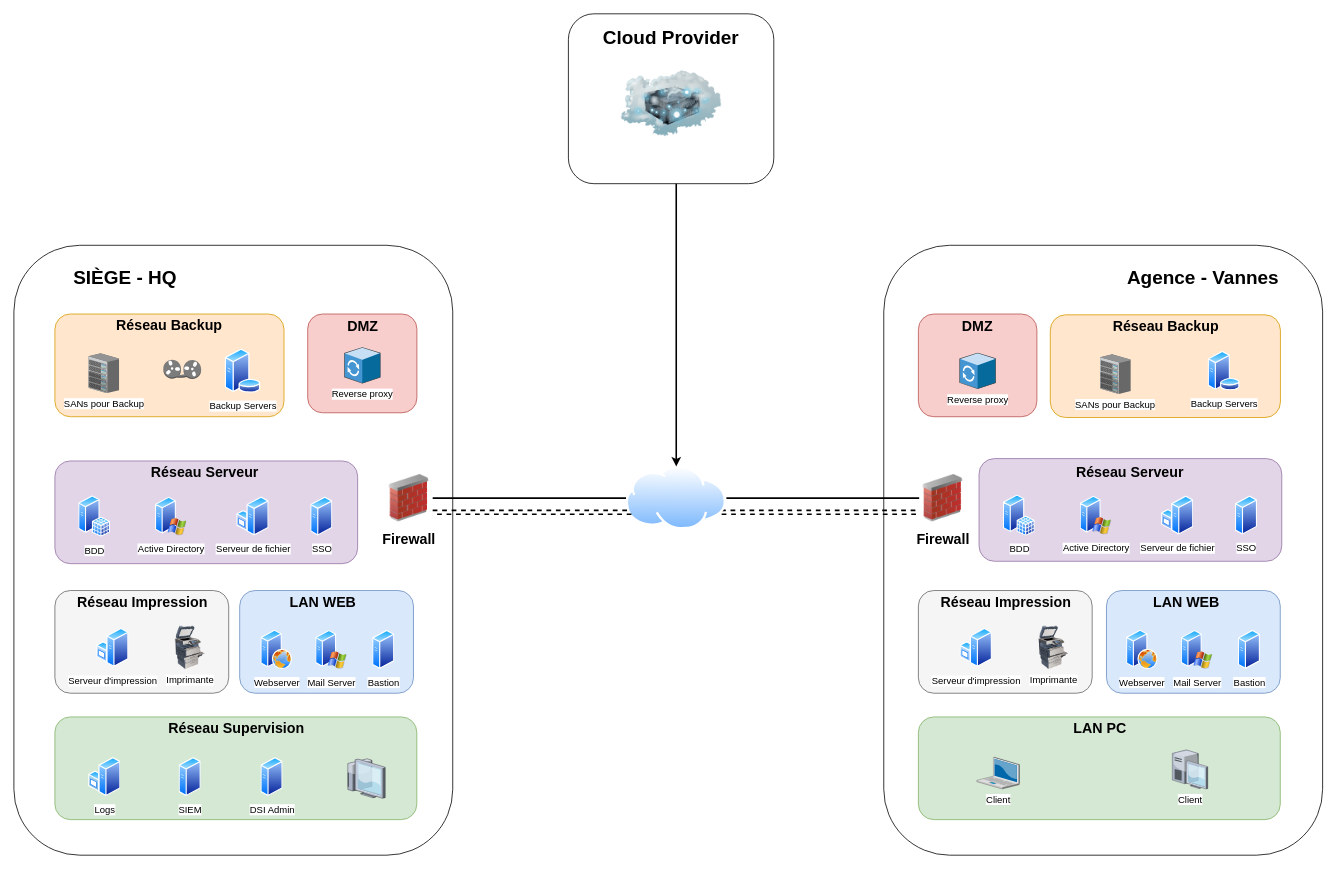
The diagram is 1337 pixels wide and 869 high, and some of its shapes have lost their labels. The centre of each missing label's shape, as x and y in pixels:
DSI User: the point at 365,778
Internet: the point at 676,497
Nginx Load Balancer: the point at 671,103
Tape storage: the point at 182,369
